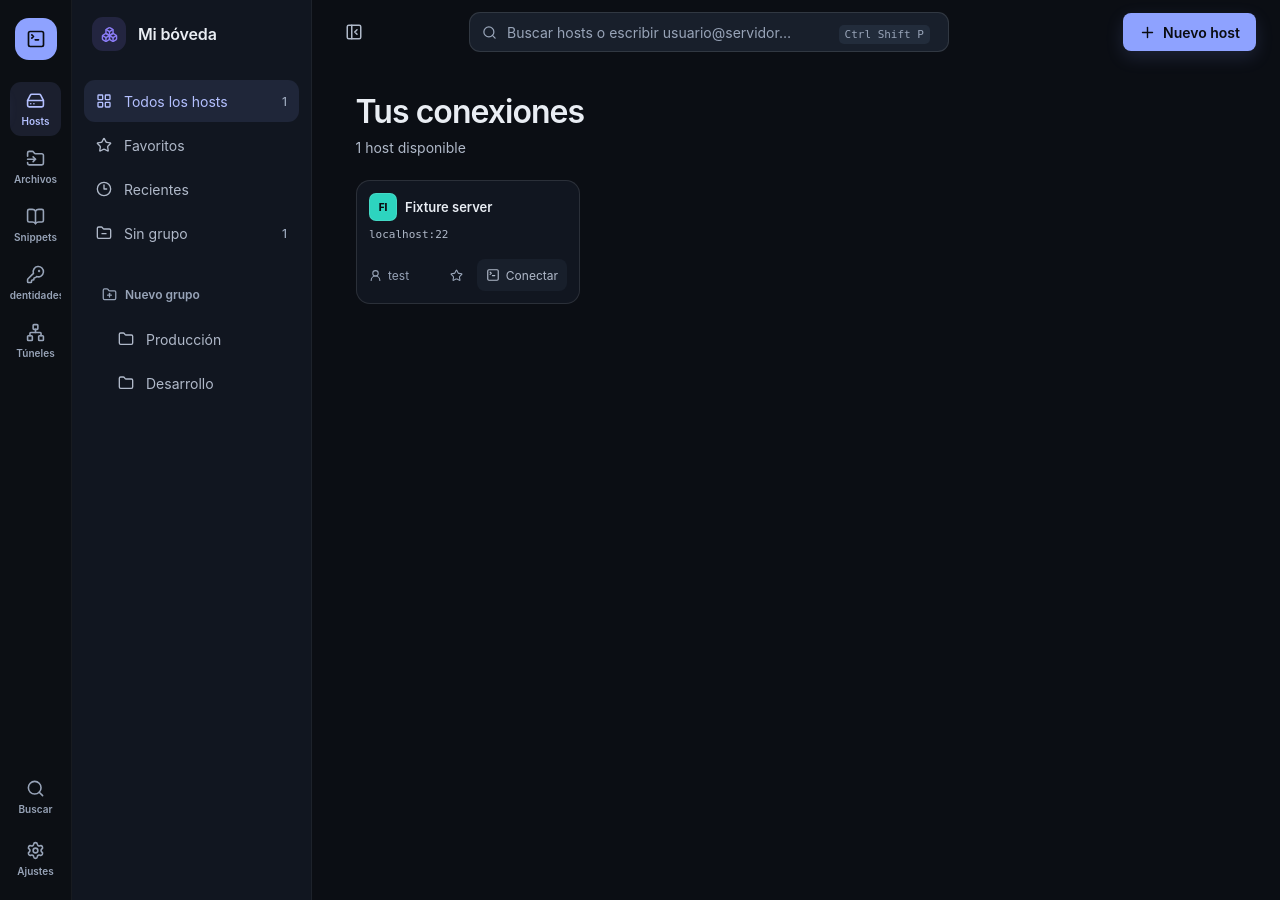
Test: shows all tools directly and removes workspaces and More
Expected: the heading "Fixture server" is shown, [404,199,492,215]
Click the button "Snippets" at (36, 225), box [10,198,61,252]
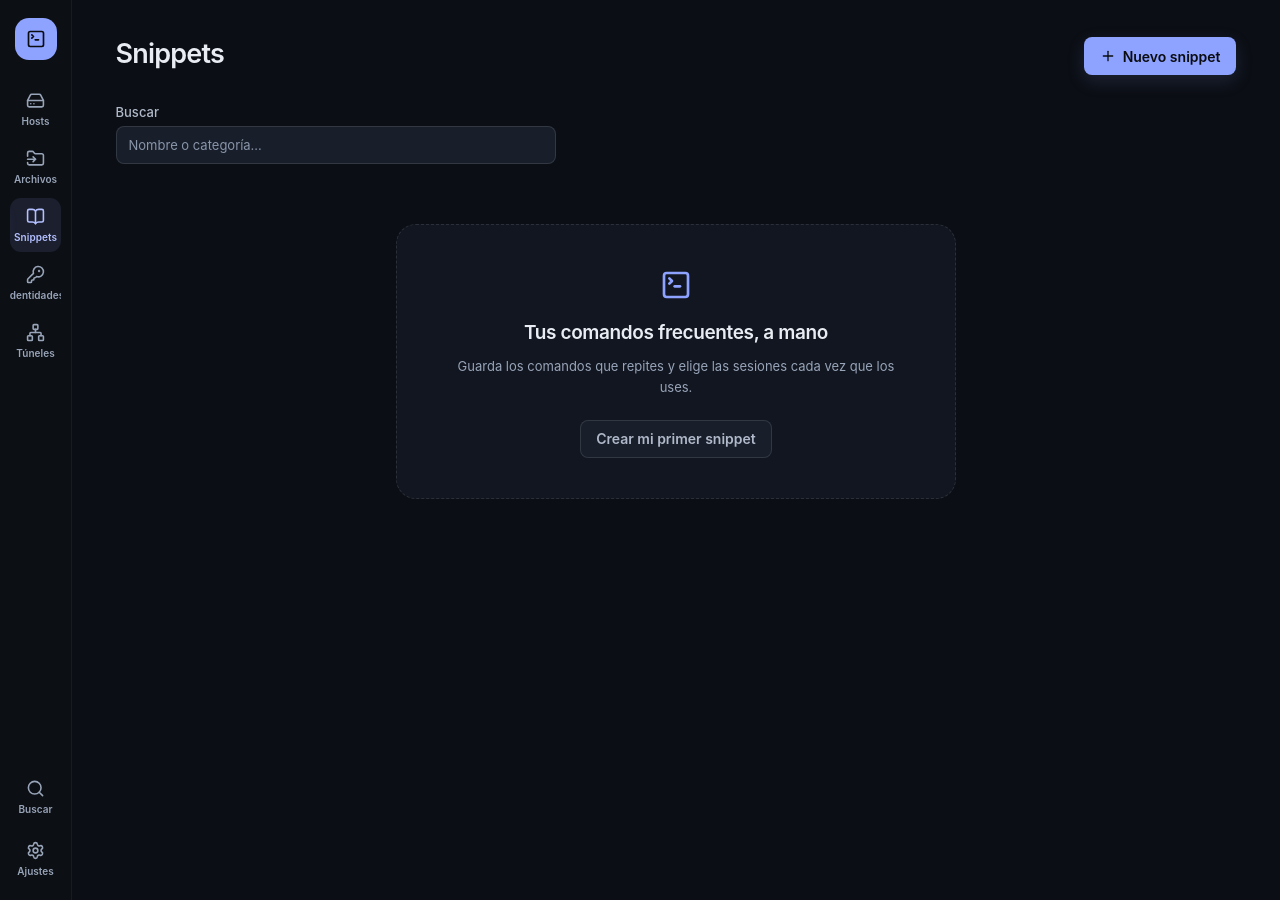
Expected: the heading "Snippets" is shown, [116,37,224,70]
Click the button "Hosts" at (36, 109), box [10,82,61,136]
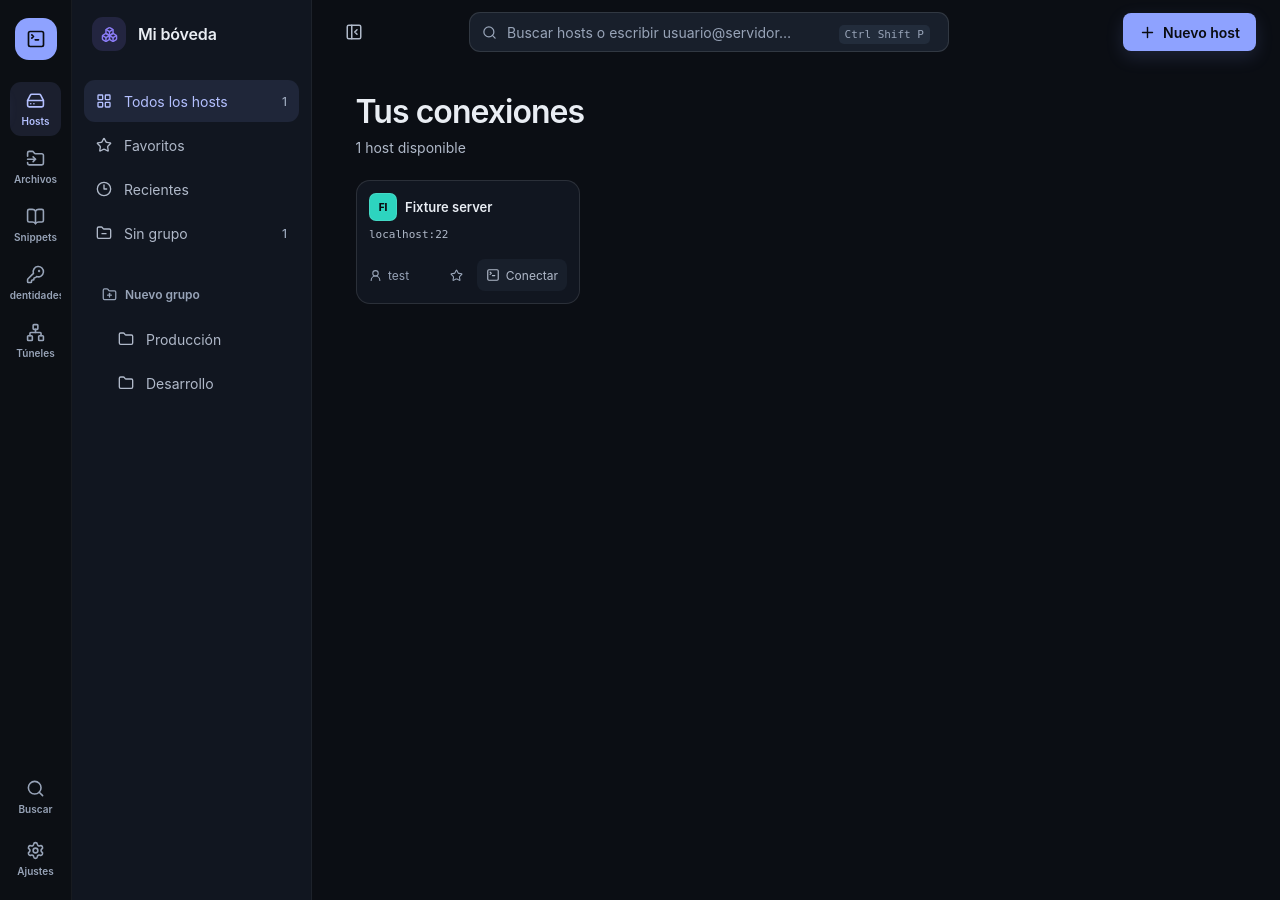
Expected: the element named "Host Fixture server" is shown, [356,180,580,304]
